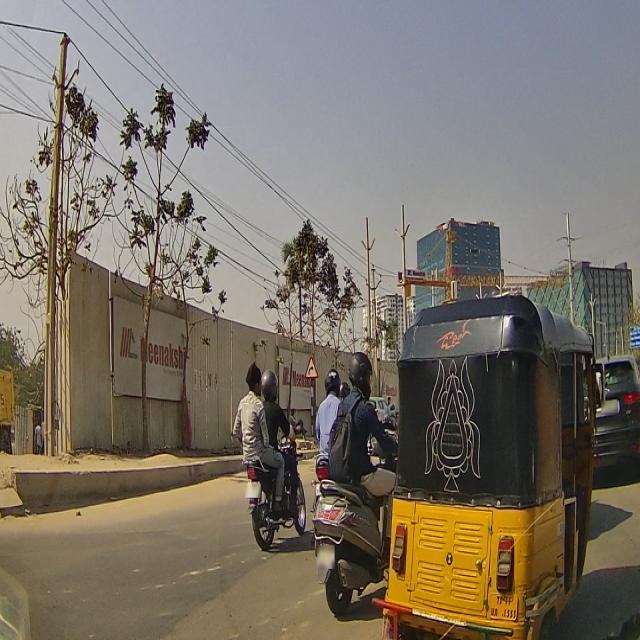right-hand-curve: (304, 355, 318, 383)
